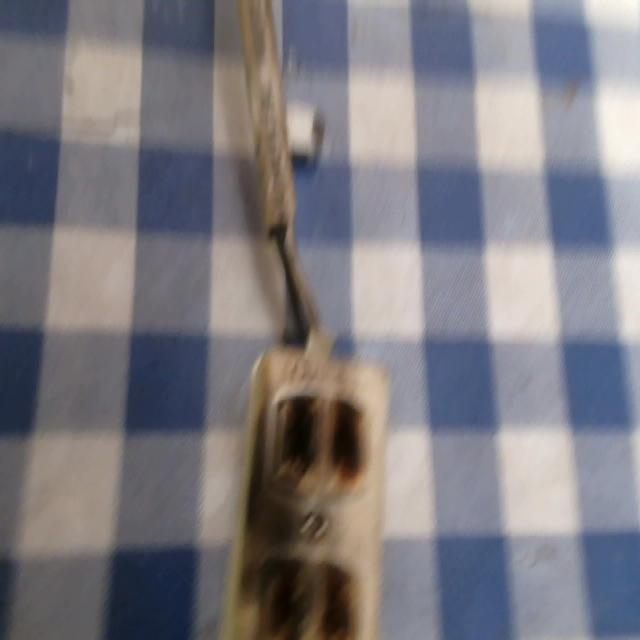-: (269, 387, 370, 496)
